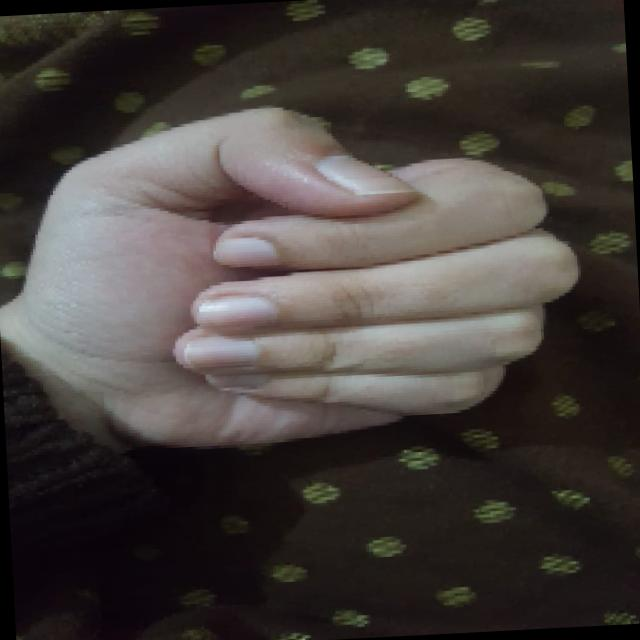Nail: (316, 155, 413, 197), (193, 297, 277, 329), (184, 339, 258, 367), (214, 237, 278, 268), (204, 375, 269, 388)
